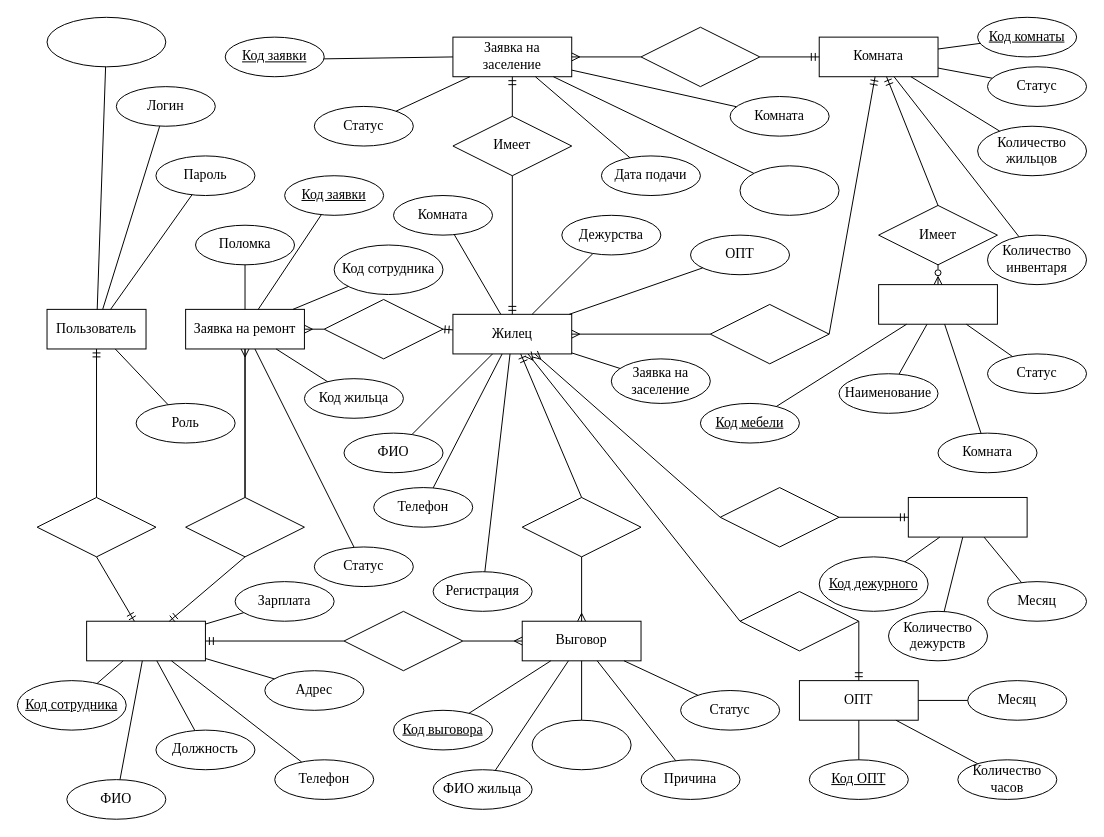
Some shapes in this 1104 by 837 pixel diagram are drawn without their labels. The shapes that lost their labels are listed below. From the top down, each one's centre as x and y in pixels, then its label:
At (x=106, y=41): "Код пользователя".
At (x=700, y=56): "Указывает".
At (x=789, y=190): "Дата заселения".
At (x=937, y=304): "Мебель".
At (x=383, y=328): "Оставляет".
At (x=769, y=333): "Живёт в".
At (x=96, y=526): "Владеет".
At (x=244, y=526): "Отвечает".
At (x=581, y=526): "Получает".
At (x=779, y=517): "Дежурит".
At (x=967, y=516): "Дежурство".
At (x=145, y=640): "Сотрудник".
At (x=403, y=640): "Выносит".
At (x=799, y=621): "Отрабатывает".
At (x=581, y=744): "ФИО сотрудника".
